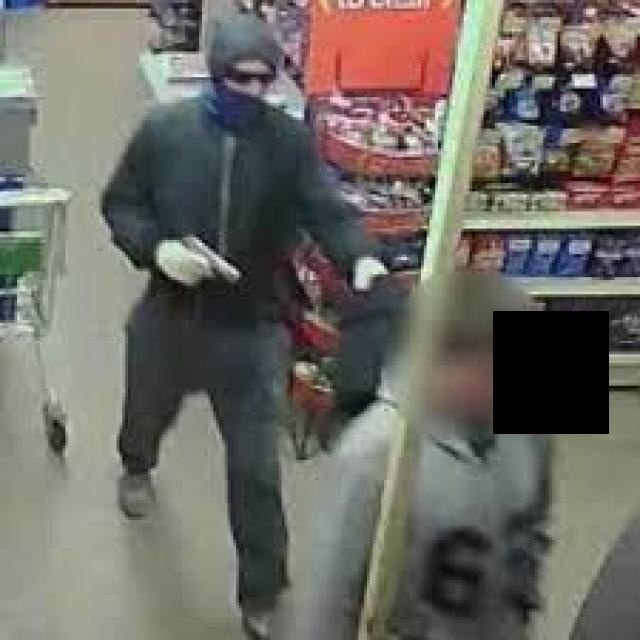gun: (156, 217, 244, 297)
